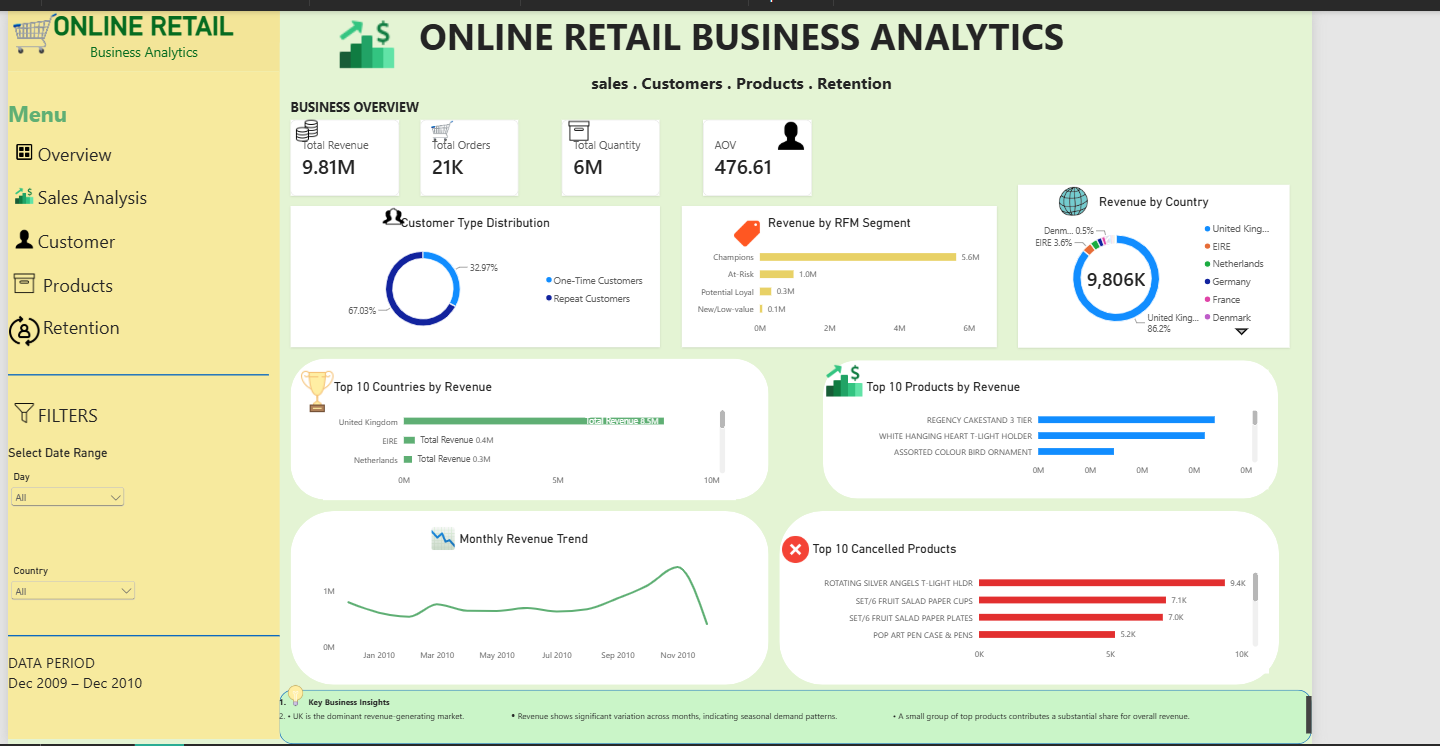

This screenshot's page, from the dashboard's own definition file:
{"tool":"powerbi","page":{"name":"Page 1","canvas":[1920,1080],"ordinal":0},"visuals":[{"type":"shape","box":[400,1000,1520,80],"z":0},{"type":"shape","box":[416,736,704,256],"z":1000},{"type":"shape","box":[1136,736,736,256],"z":2000},{"type":"shape","box":[416,512,704,208],"z":3000},{"type":"shape","box":[1200,512,672,208],"z":4000},{"type":"shape","title":"ONLINE RETAIL","box":[0,0,400,1072],"z":5000},{"type":"cardVisual","fields":{"Data":["cleaned_retail_data.Total"]},"box":[416,160,160,112],"z":6000},{"type":"cardVisual","fields":{"Data":["cleaned_retail_data.Total Orders"]},"box":[608,160,144,112],"z":7000},{"type":"cardVisual","fields":{"Data":["cleaned_retail_data.Total Quantity"]},"box":[816,160,144,112],"z":8000},{"type":"cardVisual","fields":{"Data":["cleaned_retail_data.AOV"]},"box":[1024,160,160,112],"z":9000},{"type":"barChart","title":"Top 10 Countries by Revenue","fields":{"Category":["cleaned_retail_data.Country"],"Y":["cleaned_retail_data.Total Revenue"]},"box":[464,528,608,192],"z":10000},{"type":"lineChart","title":"Monthly Revenue Trend","fields":{"Category":["cleaned_retail_data.InvoiceDate.Variation.Date Hierarchy.Year","cleaned_retail_data.InvoiceDate.Variation.Date Hierarchy.Month"],"Y":["cleaned_retail_data.Total Revenue"]},"box":[448,752,624,224],"z":11000},{"type":"clusteredBarChart","title":"Top 10 Products by Revenue","fields":{"Category":["cleaned_retail_data.Description"],"Y":["cleaned_retail_data.Total Revenue"]},"box":[1248,528,608,176],"z":12000},{"type":"slicer","fields":{"Values":["cleaned_retail_data.Country"]},"box":[0,816,192,96],"z":13000},{"type":"slicer","title":"Select Date Range","fields":{"Values":["cleaned_retail_data.InvoiceDate.Variation.Date Hierarchy.Day"]},"box":[0,640,176,96],"z":14000},{"type":"textbox","box":[400,1008,1520,64],"z":15000},{"type":"donutChart","title":"Revenue by Country","fields":{"Category":["cleaned_retail_data.Country"],"Y":["Sum(cleaned_retail_data.Revenue)"]},"box":[1488,256,400,240],"z":16000},{"type":"donutChart","title":"Customer Type Distribution","fields":{"Y":["Year 2009-2010.One-Time Customers","Year 2009-2010.Repeat Customers"]},"box":[416,288,544,208],"z":17000},{"type":"clusteredBarChart","title":"       Revenue by RFM Segment","fields":{"Category":["rfm_segment_summary.Segment"],"Y":["Sum(rfm_segment_summary.Revenue)"]},"box":[992,288,464,208],"z":18000},{"type":"clusteredBarChart","title":"Top 10 Cancelled Products","fields":{"Category":["Year 2009-2010.Description"],"Y":["Year 2009-2010.Cancelled Quantity"]},"box":[1168,768,688,208],"z":19000},{"type":"textbox","box":[480,0,1200,144],"z":20000},{"type":"textbox","box":[416,128,608,32],"z":21000},{"type":"image","box":[432,0,192,96],"z":22000},{"type":"image","box":[1040,304,96,48],"z":23000},{"type":"image","box":[0,0,80,64],"z":24000},{"type":"image","box":[400,992,48,32],"z":25000},{"type":"image","box":[416,160,48,32],"z":26000},{"type":"image","box":[608,160,64,32],"z":27000},{"type":"image","box":[800,160,80,32],"z":28000},{"type":"image","box":[1120,160,64,48],"z":29000},{"type":"image","box":[592,752,96,48],"z":30000},{"type":"image","box":[1520,256,96,48],"z":31000},{"type":"image","box":[400,528,112,64],"z":32000},{"type":"image","box":[512,288,112,32],"z":33000},{"type":"image","box":[1136,752,48,80],"z":34000},{"type":"image","box":[1184,512,96,64],"z":35000},{"type":"textbox","box":[0,128,192,64],"z":36000},{"type":"textbox","box":[0,192,352,64],"z":37000},{"type":"image","box":[0,192,48,32],"z":38000},{"type":"textbox","box":[0,256,368,64],"z":38001},{"type":"image","box":[0,256,48,32],"z":38002},{"type":"textbox","box":[0,320,368,48],"z":38003},{"type":"image","box":[0,320,48,32],"z":38004},{"type":"textbox","box":[0,384,352,48],"z":38005},{"type":"image","box":[0,384,48,32],"z":38006},{"type":"textbox","box":[0,448,384,48],"z":38007},{"type":"image","box":[0,448,48,48],"z":38008},{"type":"shape","box":[0,512,384,48],"z":38009},{"type":"textbox","box":[0,576,400,64],"z":38010},{"type":"image","box":[0,576,48,32],"z":38011},{"type":"shape","box":[0,880,400,80],"z":38012},{"type":"textbox","box":[0,944,400,128],"z":38013}]}

Visuals, with their boxes on the page's 1920x1080 design canvas (x1, y1, x2, y2). These are canvas units, not pixel positions in the 1440x746 screenshot, which may show the page scaled, cropped or inside an application window:
shape: BBox(400, 1000, 1920, 1080)
shape: BBox(416, 736, 1120, 992)
shape: BBox(1136, 736, 1872, 992)
shape: BBox(416, 512, 1120, 720)
shape: BBox(1200, 512, 1872, 720)
"ONLINE RETAIL" shape: BBox(0, 0, 400, 1072)
cardVisual - cleaned_retail_data.Total: BBox(416, 160, 576, 272)
cardVisual - cleaned_retail_data.Total Orders: BBox(608, 160, 752, 272)
cardVisual - cleaned_retail_data.Total Quantity: BBox(816, 160, 960, 272)
cardVisual - cleaned_retail_data.AOV: BBox(1024, 160, 1184, 272)
"Top 10 Countries by Revenue" barChart: BBox(464, 528, 1072, 720)
"Monthly Revenue Trend" lineChart: BBox(448, 752, 1072, 976)
"Top 10 Products by Revenue" clusteredBarChart: BBox(1248, 528, 1856, 704)
slicer - cleaned_retail_data.Country: BBox(0, 816, 192, 912)
"Select Date Range" slicer: BBox(0, 640, 176, 736)
textbox: BBox(400, 1008, 1920, 1072)
"Revenue by Country" donutChart: BBox(1488, 256, 1888, 496)
"Customer Type Distribution" donutChart: BBox(416, 288, 960, 496)
"       Revenue by RFM Segment" clusteredBarChart: BBox(992, 288, 1456, 496)
"Top 10 Cancelled Products" clusteredBarChart: BBox(1168, 768, 1856, 976)
textbox: BBox(480, 0, 1680, 144)
textbox: BBox(416, 128, 1024, 160)
image: BBox(432, 0, 624, 96)
image: BBox(1040, 304, 1136, 352)
image: BBox(0, 0, 80, 64)
image: BBox(400, 992, 448, 1024)
image: BBox(416, 160, 464, 192)
image: BBox(608, 160, 672, 192)
image: BBox(800, 160, 880, 192)
image: BBox(1120, 160, 1184, 208)
image: BBox(592, 752, 688, 800)
image: BBox(1520, 256, 1616, 304)
image: BBox(400, 528, 512, 592)
image: BBox(512, 288, 624, 320)
image: BBox(1136, 752, 1184, 832)
image: BBox(1184, 512, 1280, 576)
textbox: BBox(0, 128, 192, 192)
textbox: BBox(0, 192, 352, 256)
image: BBox(0, 192, 48, 224)
textbox: BBox(0, 256, 368, 320)
image: BBox(0, 256, 48, 288)
textbox: BBox(0, 320, 368, 368)
image: BBox(0, 320, 48, 352)
textbox: BBox(0, 384, 352, 432)
image: BBox(0, 384, 48, 416)
textbox: BBox(0, 448, 384, 496)
image: BBox(0, 448, 48, 496)
shape: BBox(0, 512, 384, 560)
textbox: BBox(0, 576, 400, 640)
image: BBox(0, 576, 48, 608)
shape: BBox(0, 880, 400, 960)
textbox: BBox(0, 944, 400, 1072)
